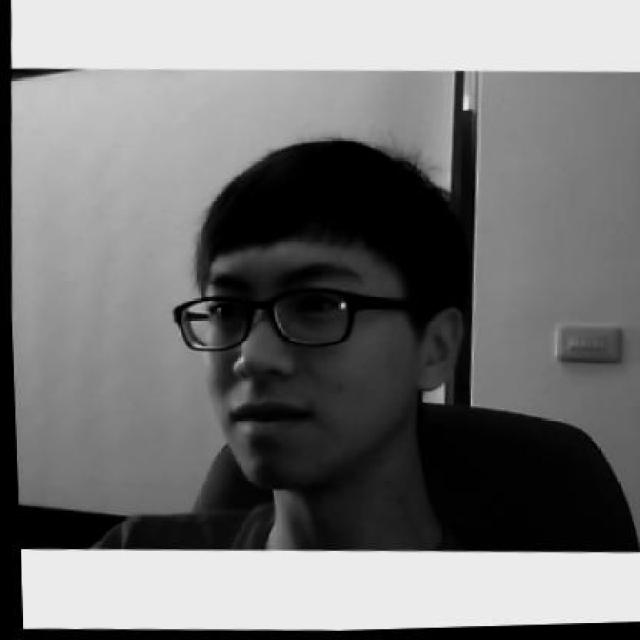attentif: (161, 131, 470, 500)
